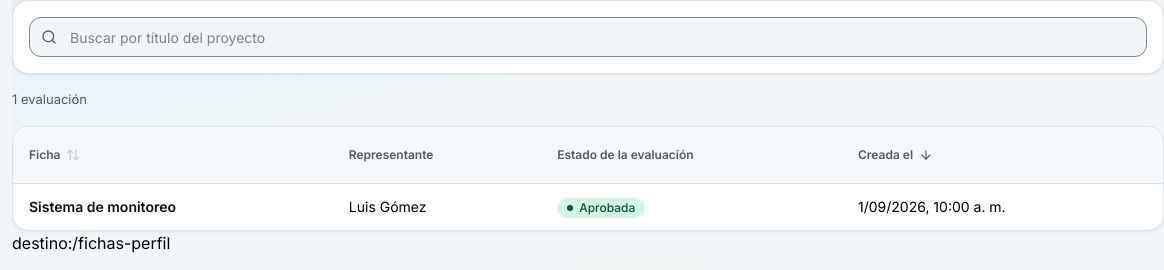
Test: ConsultarEvaluacionesAsesor › el título es un enlace al detalle de la ficha
Click the link with aria-label "Abrir la ficha Sistema de monitoreo": {"x": 102, "y": 206} [29, 198, 176, 215]
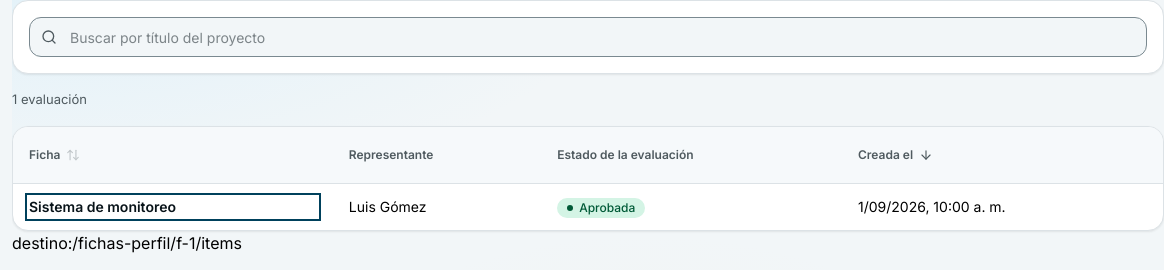
Check: the text "destino:/fichas-perfil/f-1/items" is shown, box [12, 233, 242, 253]
